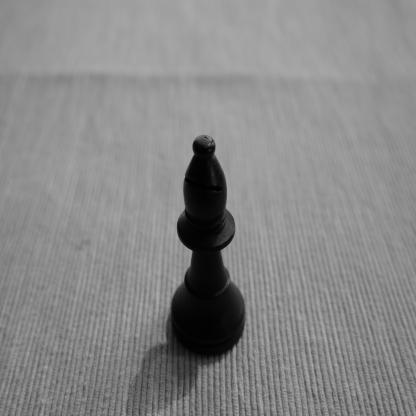black-bishop: (170, 134, 247, 358)
